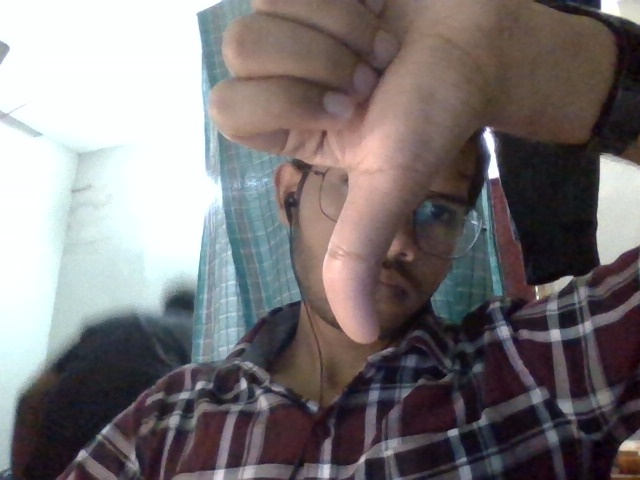ThumbDown: (208, 1, 525, 346)
